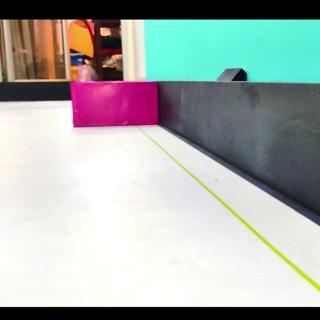xparking: (72, 82, 153, 126)
